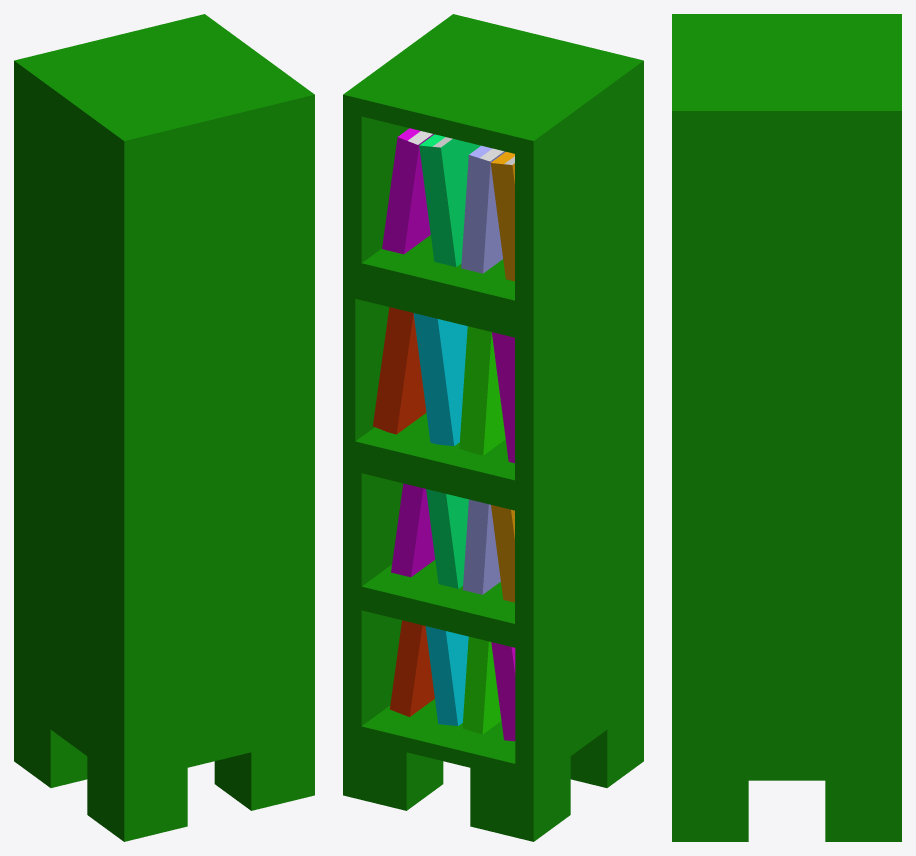
Rendered from shkafchik.fbx.
The picture shows the model from 3 angles, left to right: view 1: azimuth 30°, elevation 25°; view 2: azimuth 150°, elevation 25°; view 3: azimuth 270°, elevation 25°; orthographic projection. The views are drawn at different scales.
Parts seen in each view (by area): view 1: Cube.001; view 2: Cube.001; view 3: Cube.001.
Boxes of the visible parts, left/top/right/bottom form: Cube.001: left=14, top=14, right=314, bottom=841; Cube.001: left=343, top=14, right=643, bottom=841; Cube.001: left=672, top=14, right=901, bottom=841.
Size of the model in its own units: 200 by 702 by 200.
